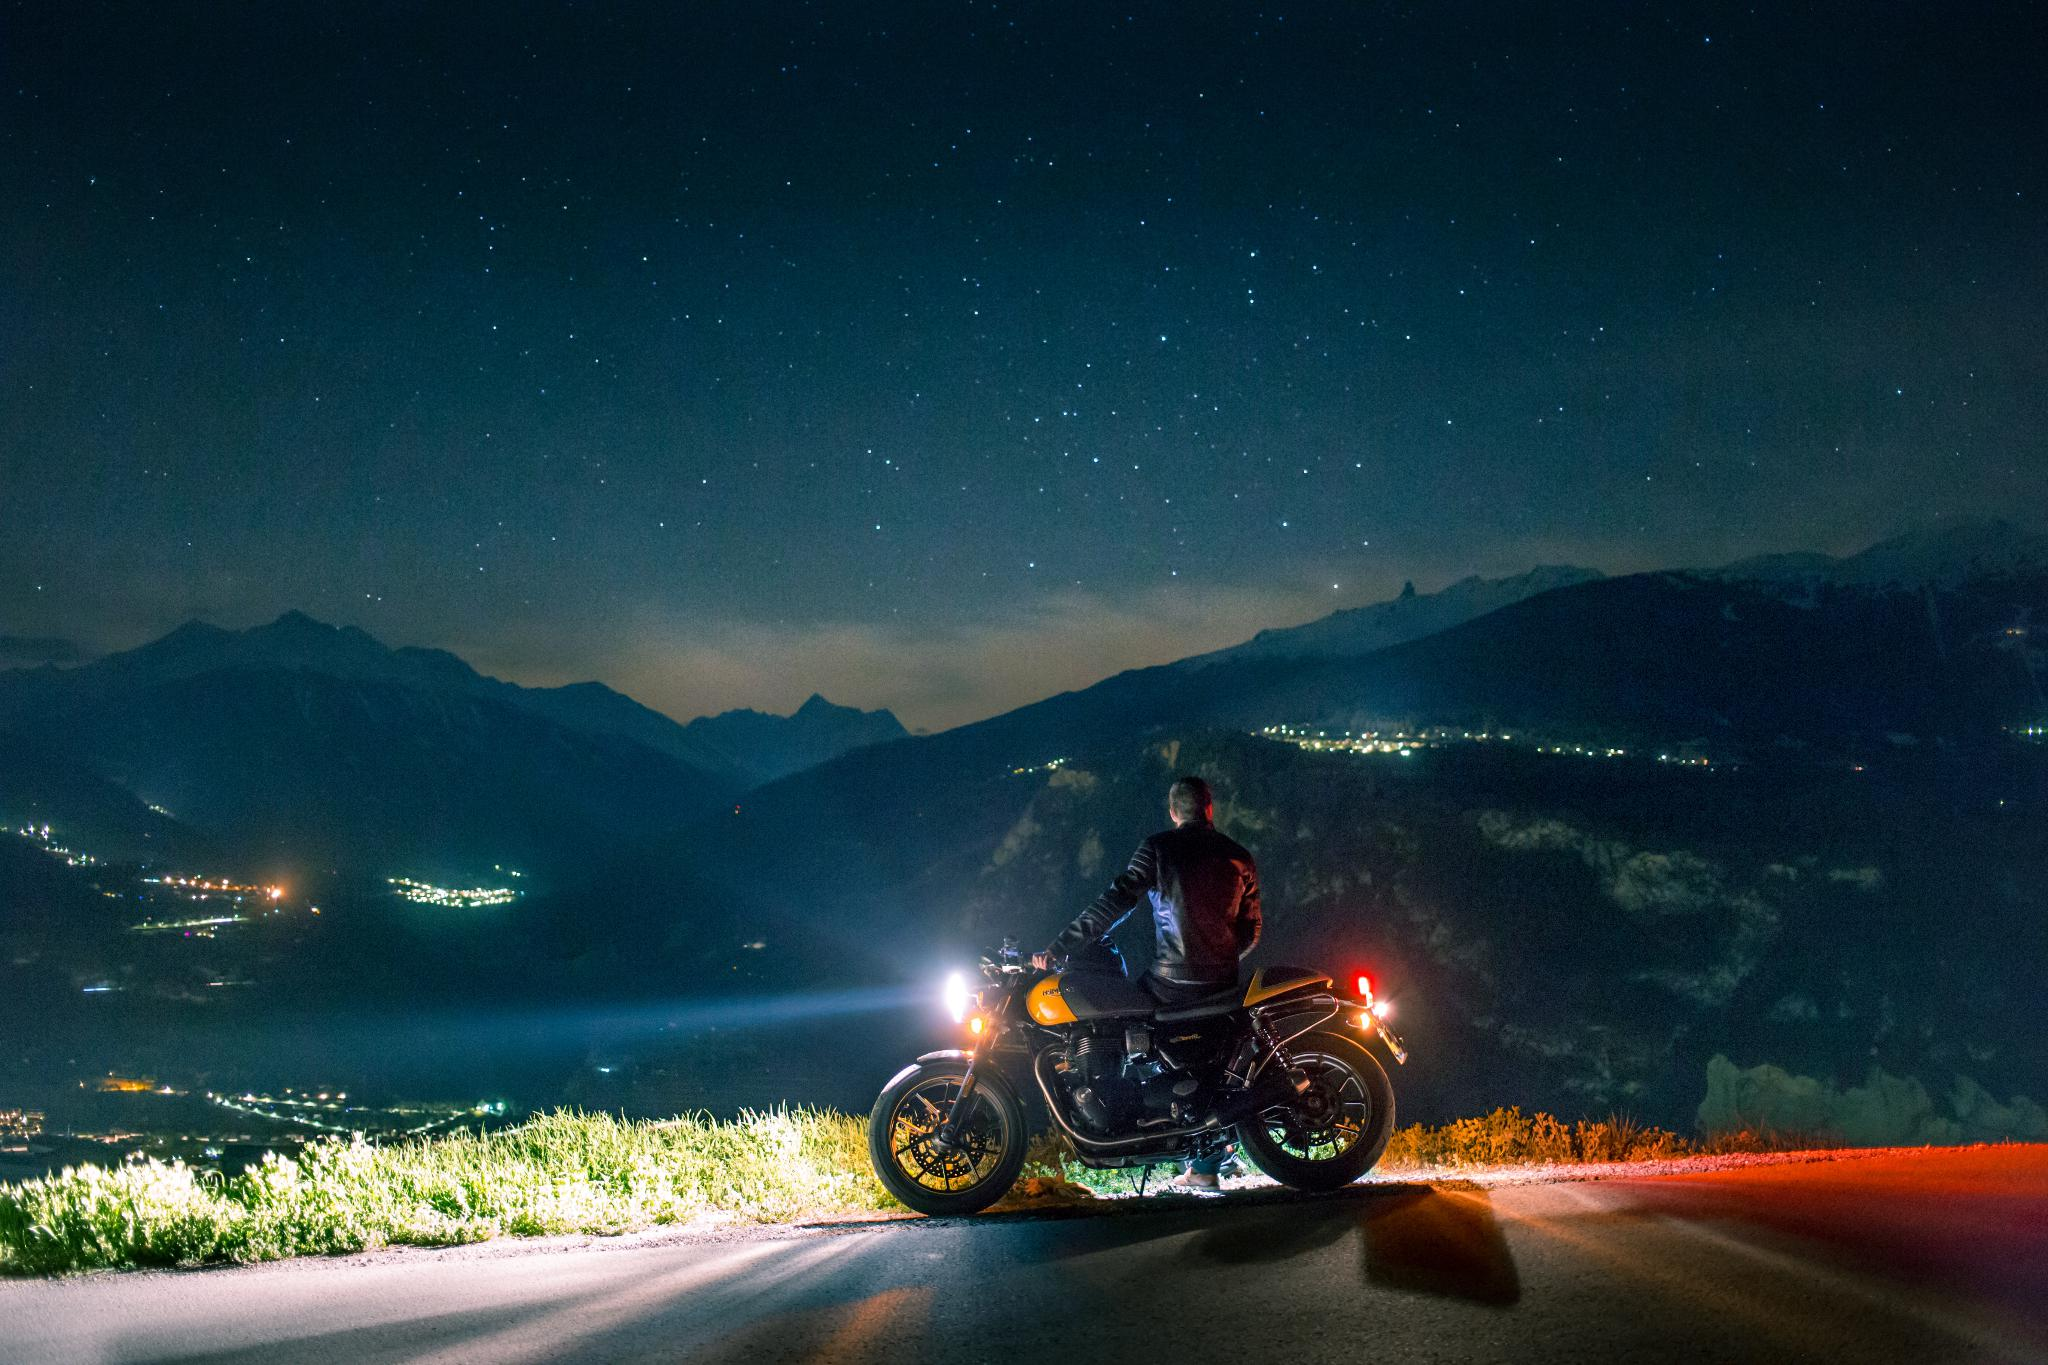motorcycle: (856, 894, 1439, 1239)
